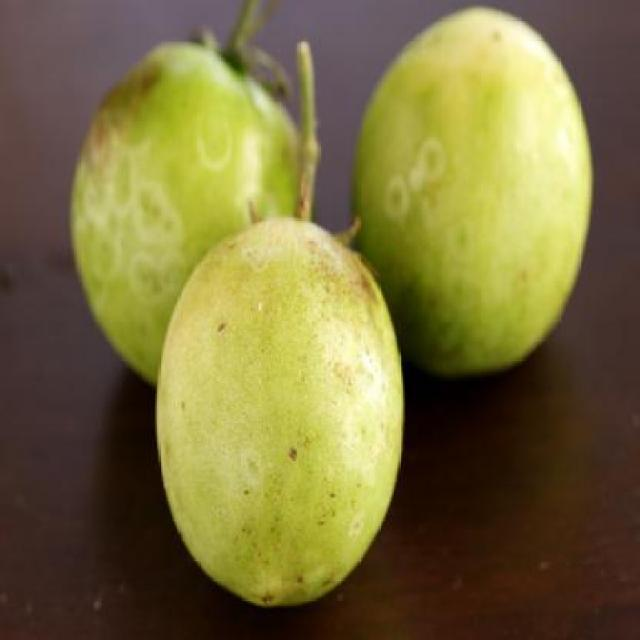Apple pie: (151, 42, 407, 608), (65, 0, 304, 388), (350, 3, 592, 374)
